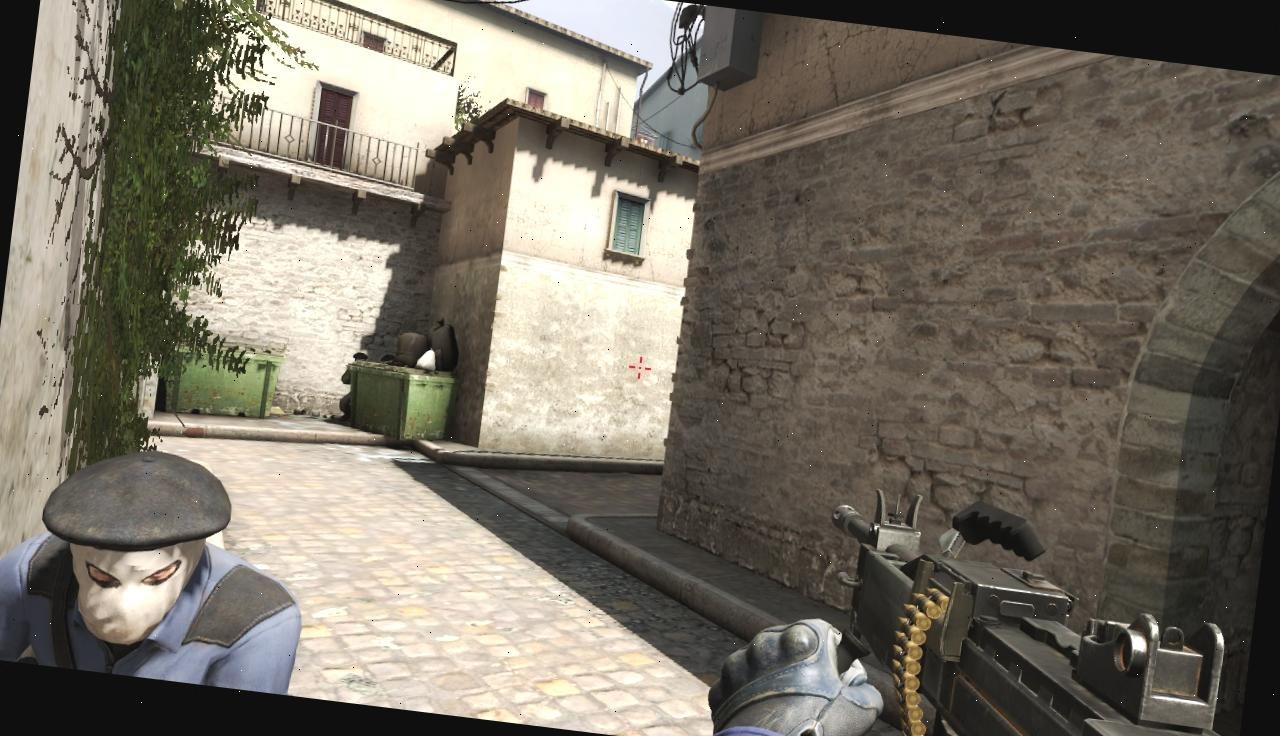rifle: (738, 457, 1266, 736)
tt: (0, 441, 318, 696)
tthead: (38, 441, 236, 658)
